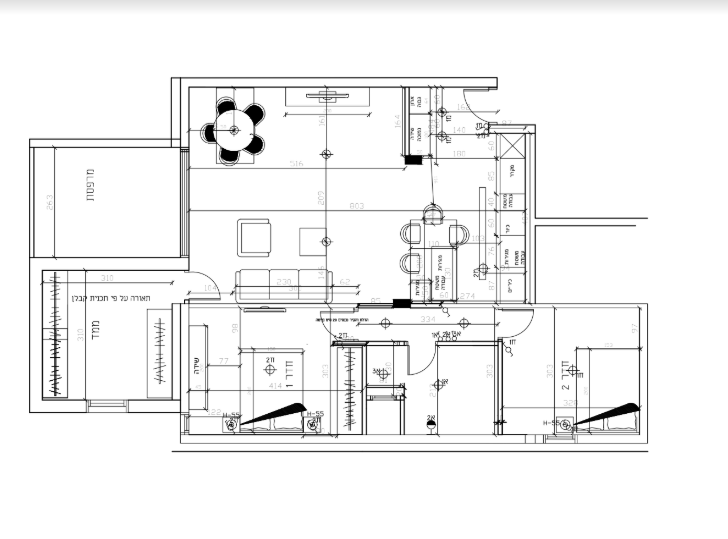door: (499, 307, 539, 340), (193, 272, 229, 303), (403, 348, 434, 379), (459, 88, 488, 120)
window: (176, 146, 196, 258), (83, 395, 132, 414)
